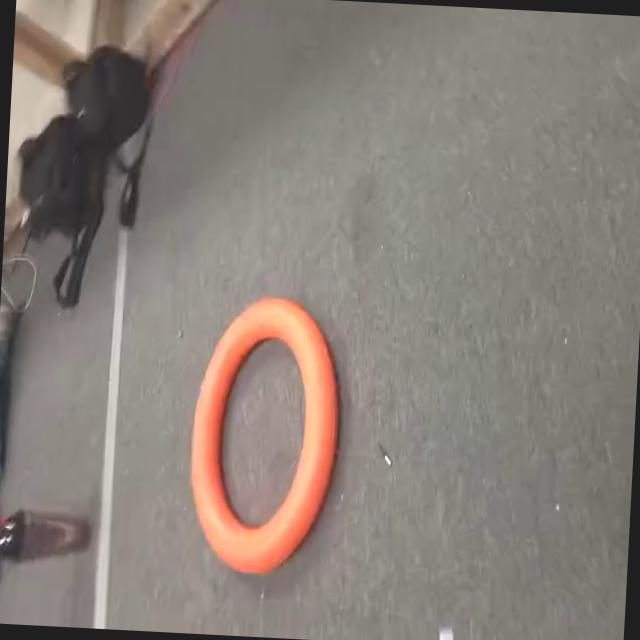note: (178, 284, 360, 594)
